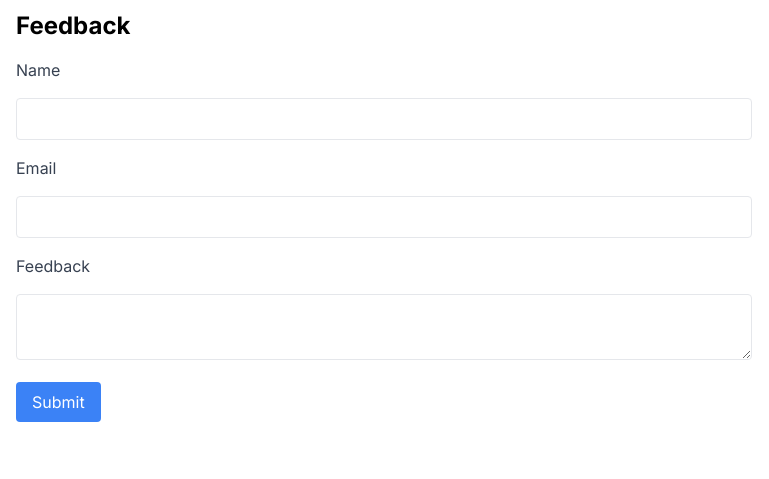
Test: FeedbackPage Component › should show error message for invalid email
In the field labelled "Name": [384, 119] box [16,98,752,140], type "John Doe"
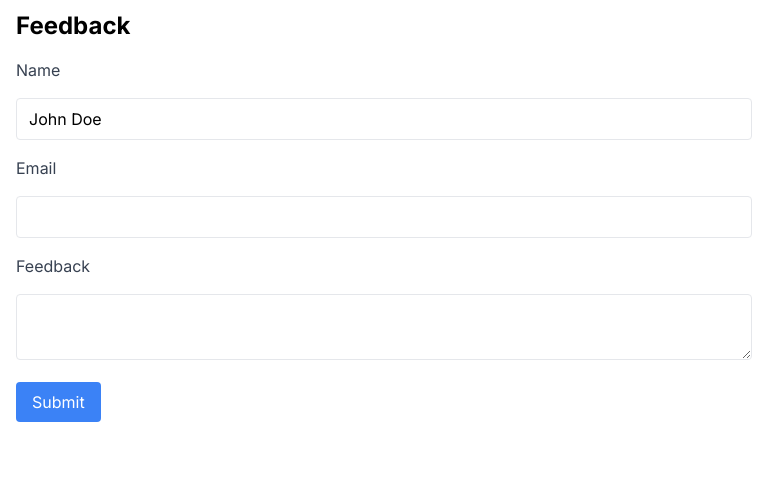
In the text box labelled "Feedback": [384, 327] box [16,294,752,360], type "Bad job..."
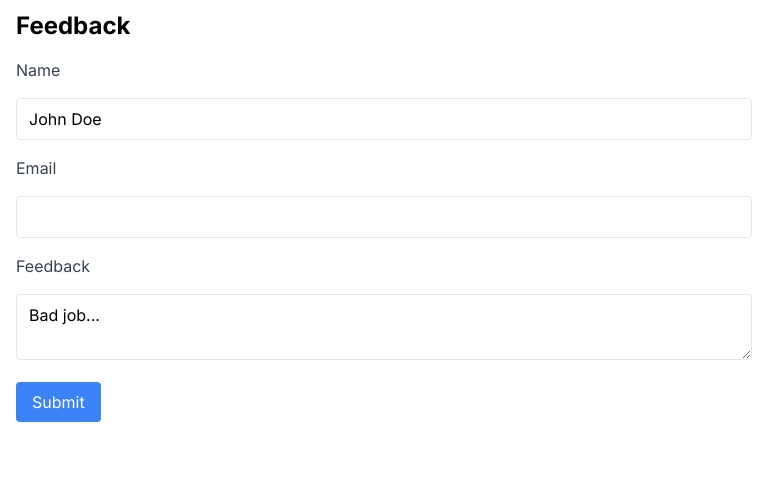
In the field labelled "Email": [384, 217] box [16,196,752,238], type "invalid-email@11.11"
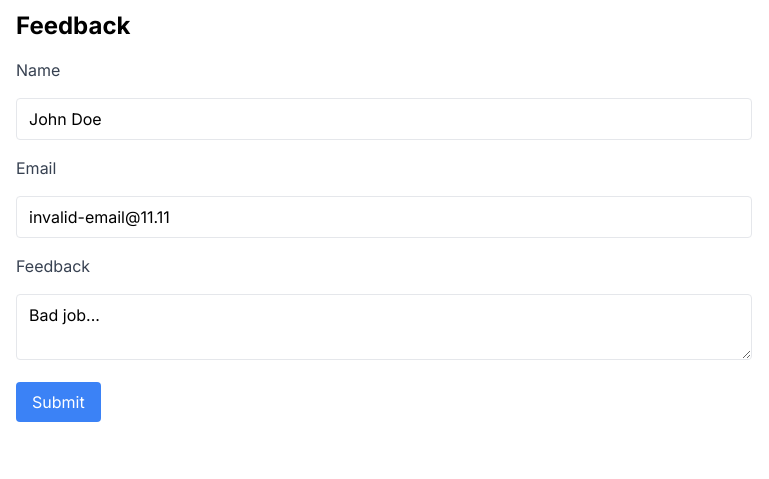
Click the button "Submit": [58, 402] box [16,382,101,422]
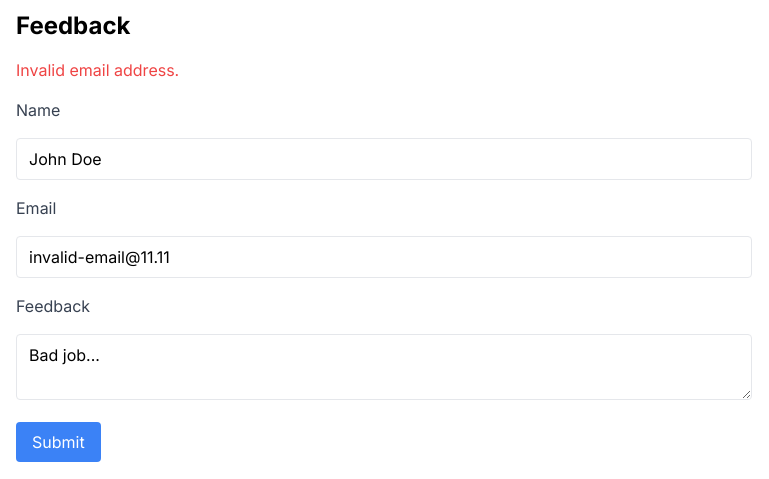
Result: the text "Invalid email address." is shown at [16,60,179,80]
